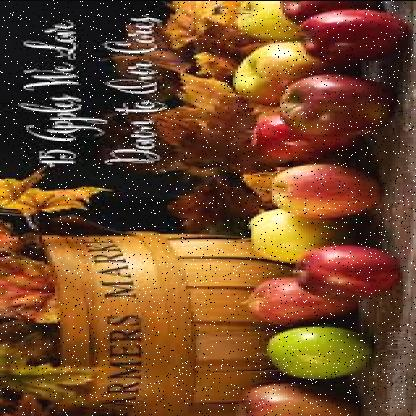apple: (272, 75, 384, 138), (225, 40, 335, 104), (246, 111, 356, 169), (270, 162, 382, 217), (296, 242, 398, 298), (266, 326, 366, 380), (303, 10, 398, 66), (249, 210, 346, 262), (244, 277, 353, 323), (233, 382, 361, 414)
